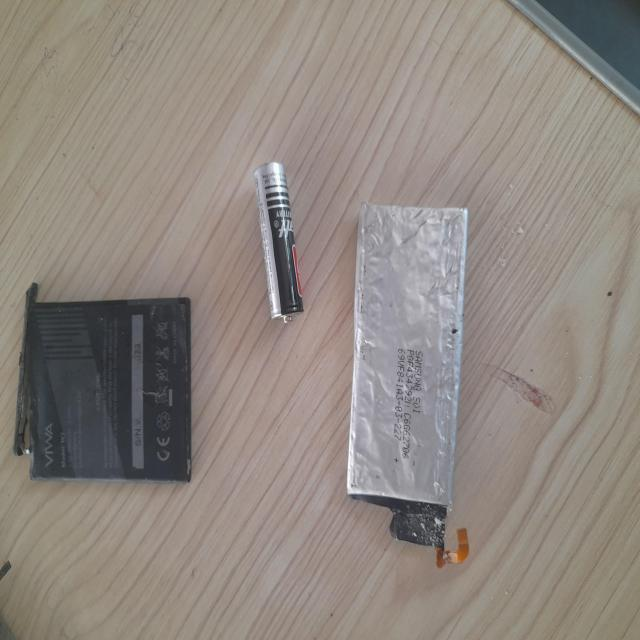AA: (328, 316, 394, 486)
